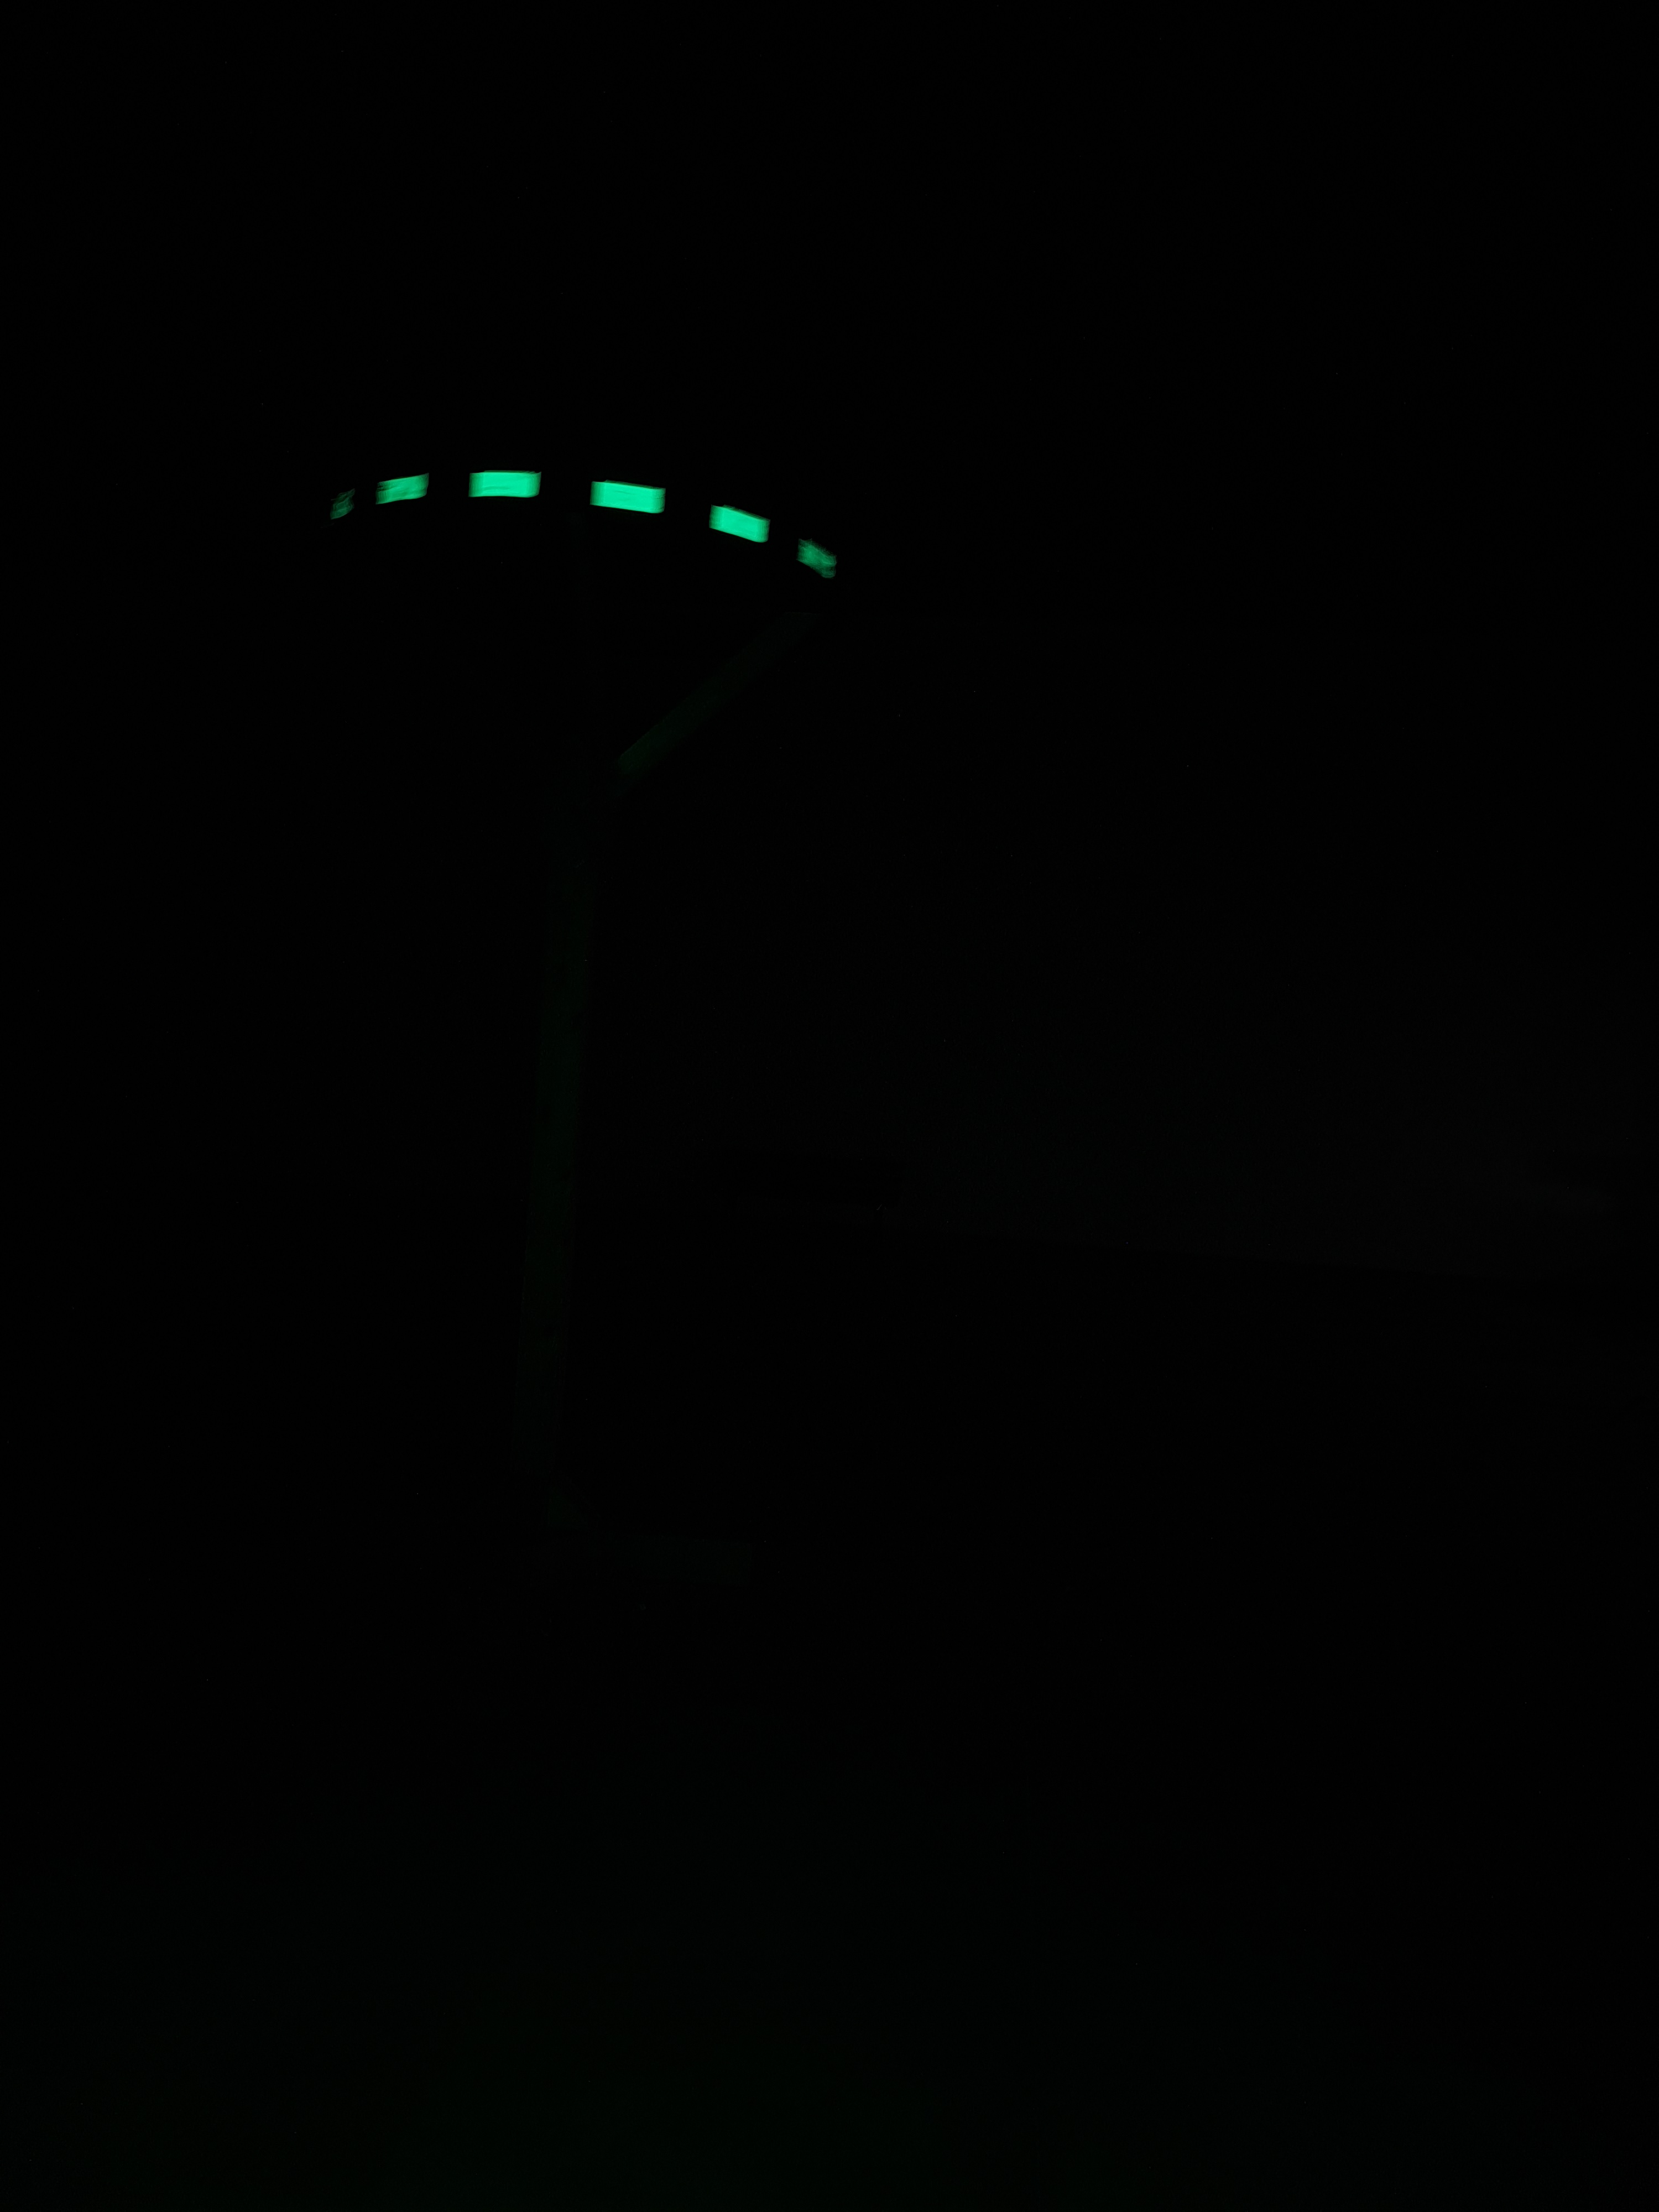hoop: (329, 455, 842, 594)
